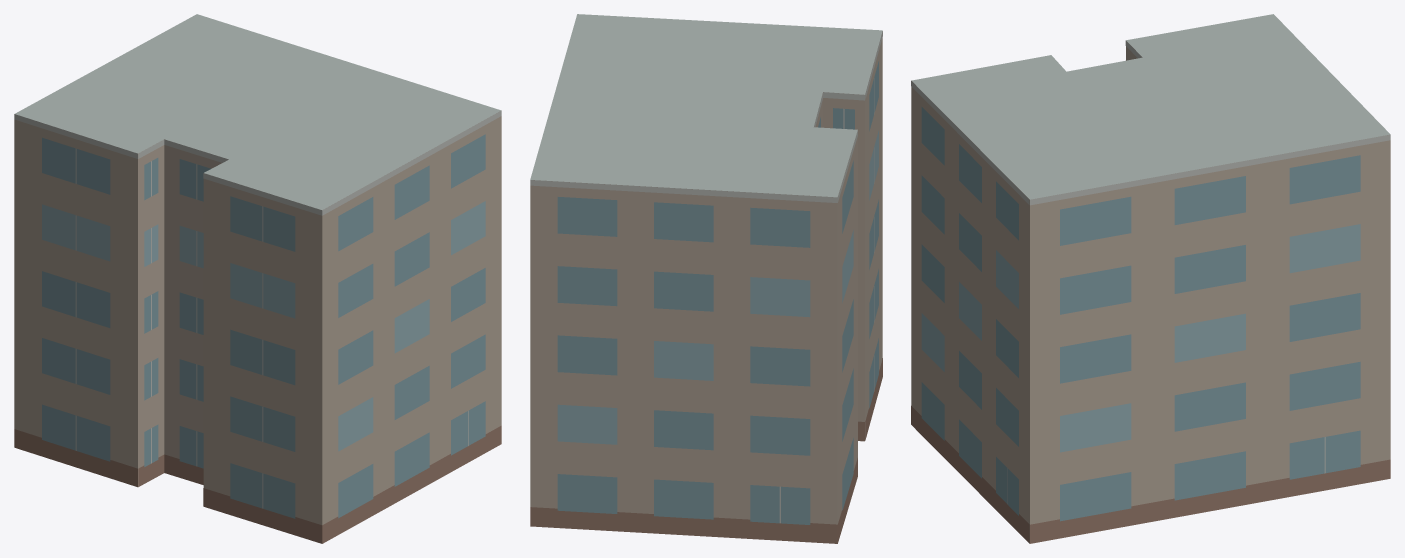
File: survey-upis-32860433.glb
3 views of the same model, side by side, from view 1: azimuth 30°, elevation 25°; view 2: azimuth 150°, elevation 25°; view 3: azimuth 270°, elevation 25° (orthographic). The views are drawn at different scales.
Parts seen in each view (by area): view 1: survey-upis-32860433.tmp; view 2: survey-upis-32860433.tmp; view 3: survey-upis-32860433.tmp.
Boxes of the visible parts, box(x1,y1,x2,y2) form: survey-upis-32860433.tmp: box(14, 14, 501, 543); survey-upis-32860433.tmp: box(530, 14, 882, 543); survey-upis-32860433.tmp: box(911, 14, 1390, 543).
Size of the model in its own units: 17.02 by 14.7 by 18.57.
